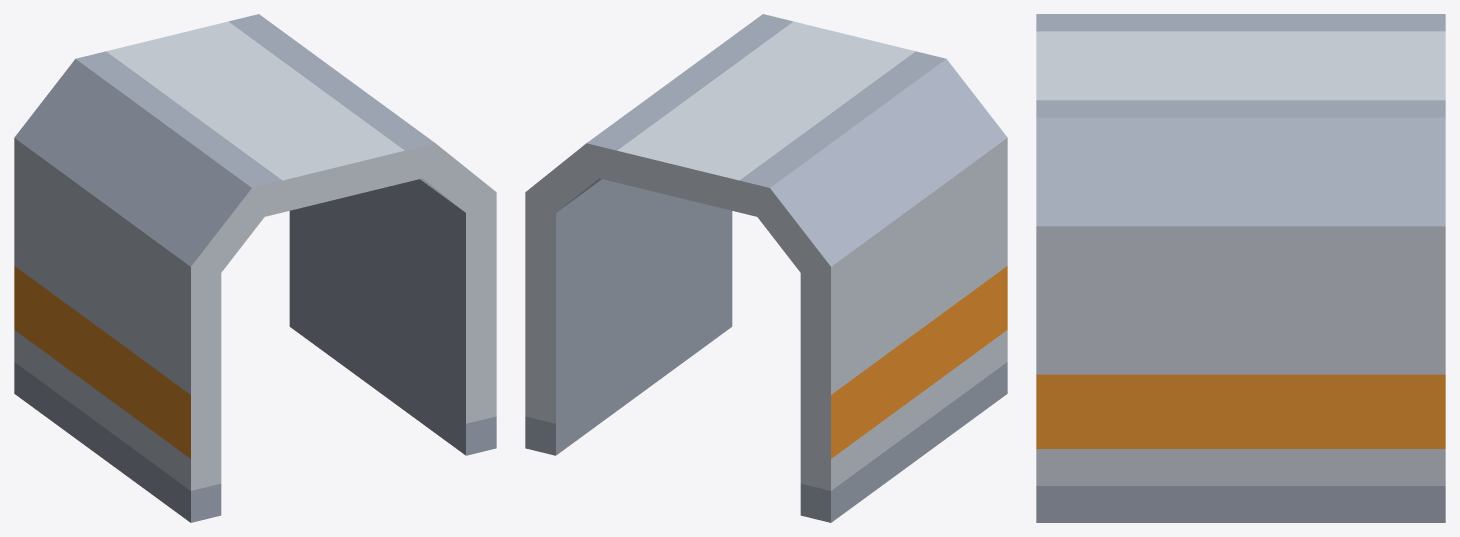
The model's file is corridor.fbx.
3 renders of one model, left to right at view 1: azimuth 30°, elevation 25°; view 2: azimuth 150°, elevation 25°; view 3: azimuth 270°, elevation 25°, orthographic. The views are drawn at different scales.
Parts seen in each view (by area): view 1: corridor; view 2: corridor; view 3: corridor.
Part boxes in pixels (x1,y1,x2,y2): corridor: [14, 14, 496, 522]; corridor: [525, 14, 1007, 522]; corridor: [1036, 14, 1445, 522].
Bounding box in the file's own units: 10 × 10 × 10.
